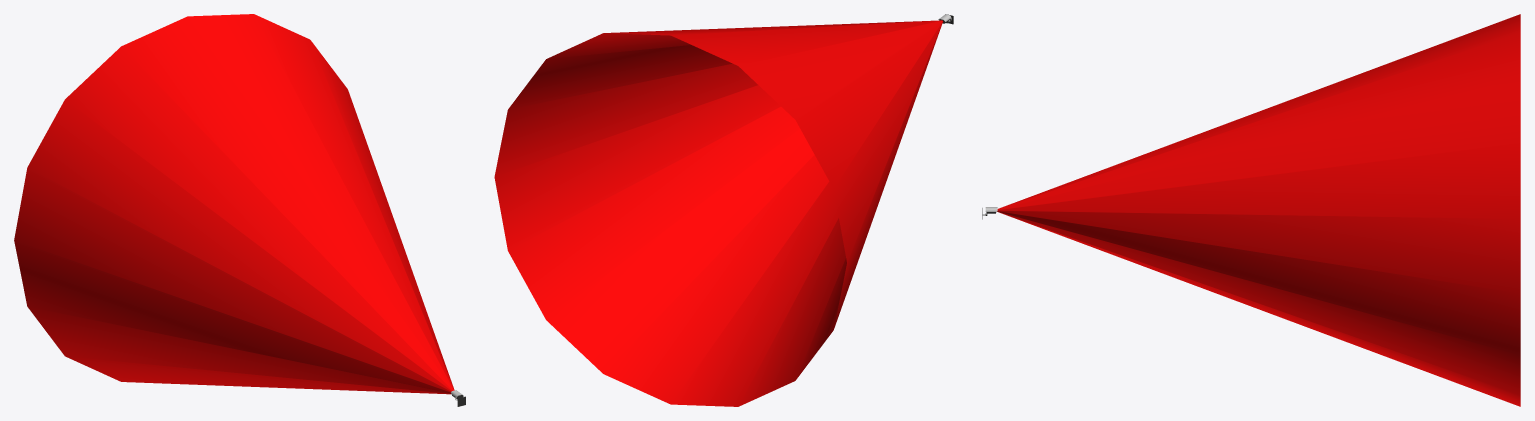
The model's file is Camera.fbx.
3 renders of one model, left to right at view 1: azimuth 30°, elevation 25°; view 2: azimuth 150°, elevation 25°; view 3: azimuth 270°, elevation 25°, orthographic. The views are drawn at different scales.
Visible parts, largest first — view 1: Cone; view 2: Cone; view 3: Cone.
Boxes of the visible parts, <box> form: Cone: <box>14,14,454,394</box>; Cone: <box>494,20,942,406</box>; Cone: <box>997,14,1520,406</box>.
Size of the model in its own units: 1384 by 1384 by 1894.
